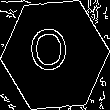O_S: (34, 28, 76, 82)
